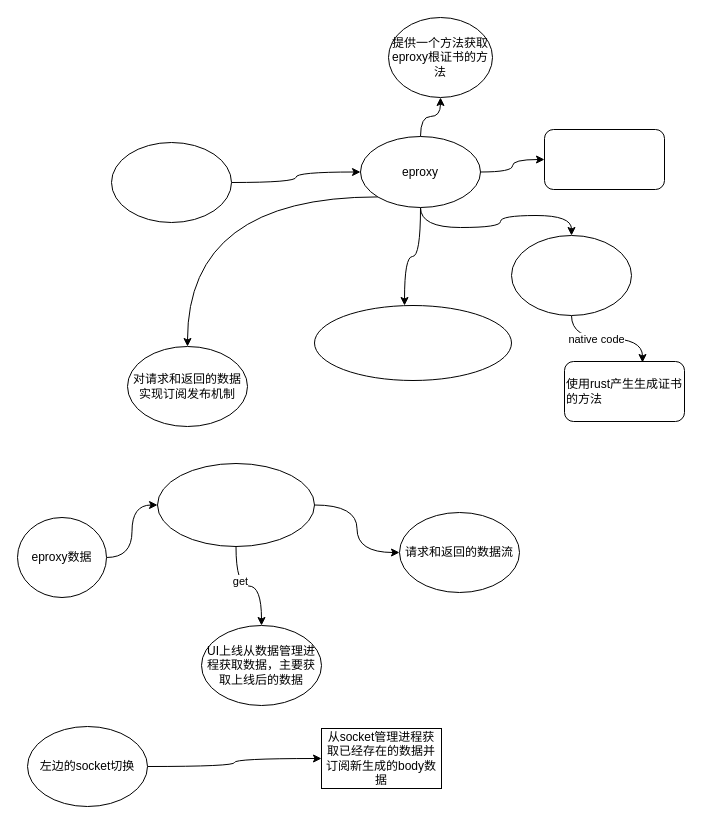
This 702x824 diagram has some shape labels left out. Each missing label, with the centre of its shape:
App: the point at 171,182
socket数据管理进程存储最新的200条会话: the point at 235,504
动态配置启动的端口 对应的域名，端口转发到目标机器: the point at 413,342
根据域名实时产生一个ssl握手的证书: the point at 571,275
通道建立后对数据进行hooks，hooks的实现可以通过Web Ui编写代码实现: the point at 604,159
